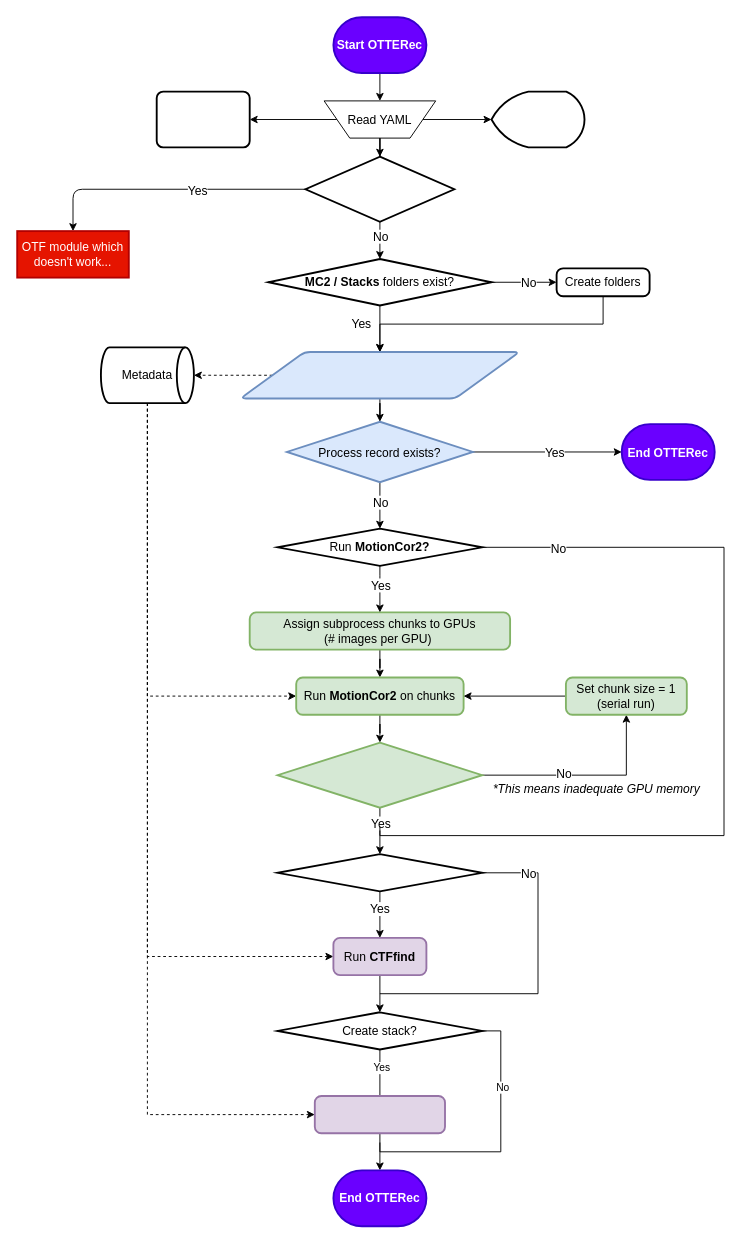
This 741x1242 diagram has some shape labels left out. Each missing label, with the box of its shape:
All images motion-corrected?: (276, 741, 483, 808)
Collect & clean raw files (TIFF/mrc): (239, 351, 520, 399)
Display tasks: (490, 90, 585, 148)
OTF processing?: (304, 155, 455, 222)
Run BatchTomo: (313, 1095, 445, 1134)
Run CTFfind?: (276, 853, 483, 892)
Start logger: (155, 90, 250, 148)
